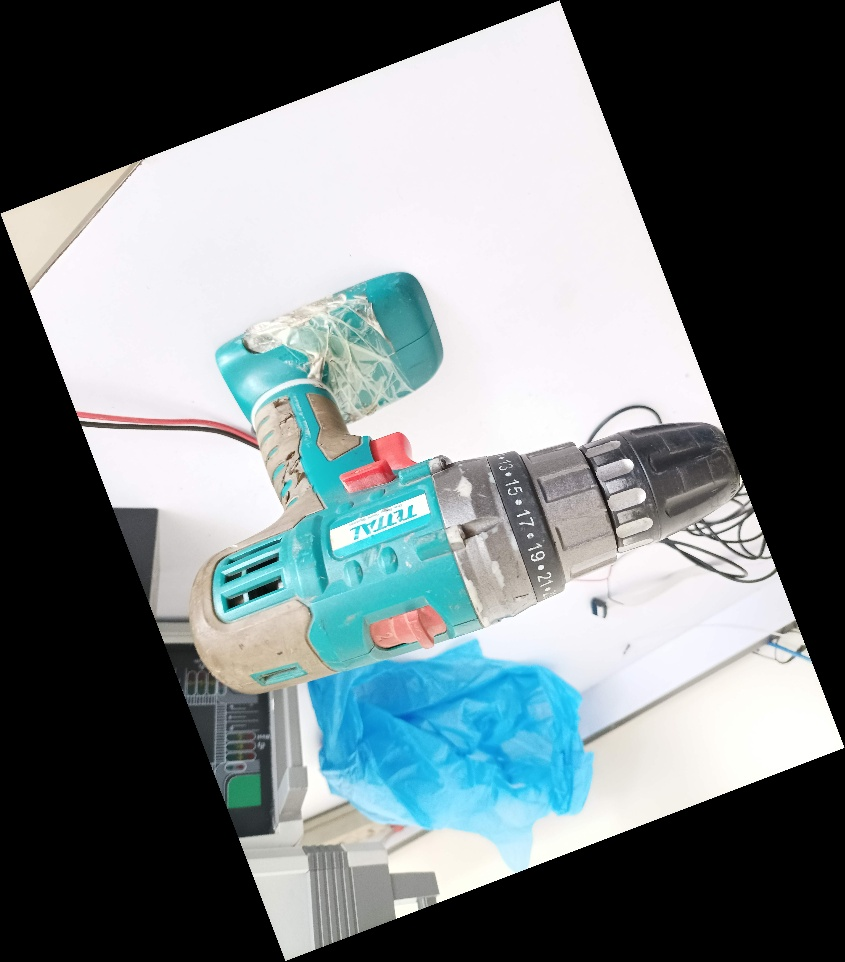driller: (183, 265, 744, 699)
